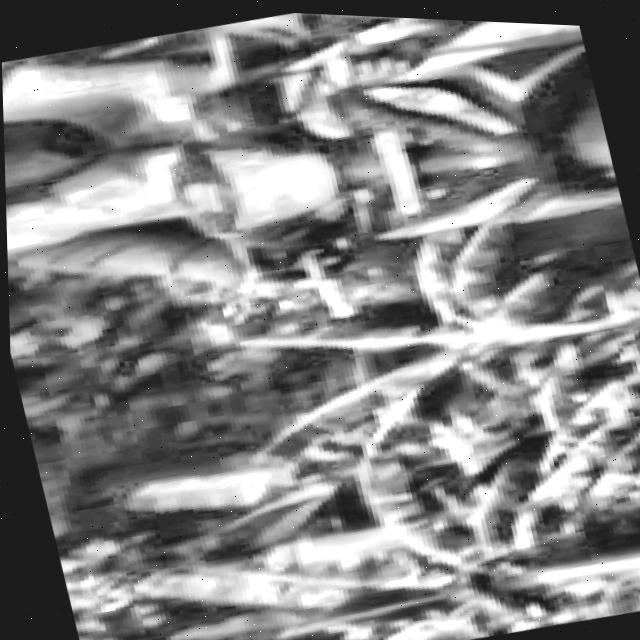Lori: (0, 0, 640, 437)
